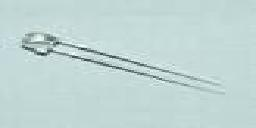LED: (19, 30, 228, 96)
